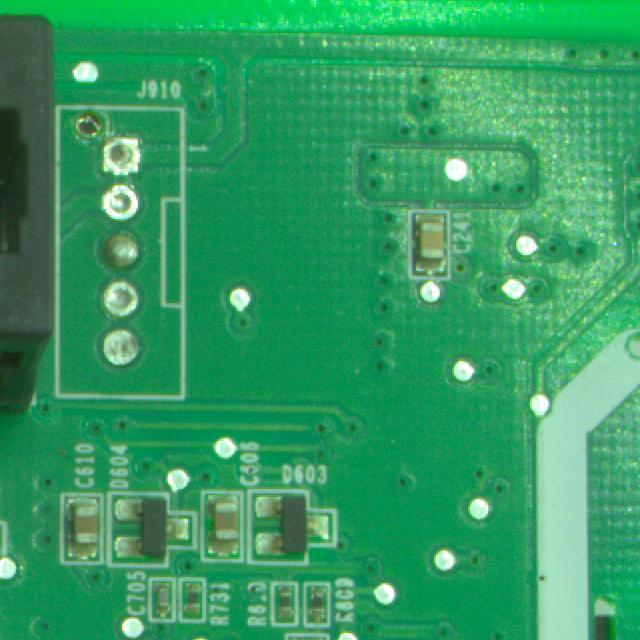Insufficient solder: (98, 133, 143, 177)
